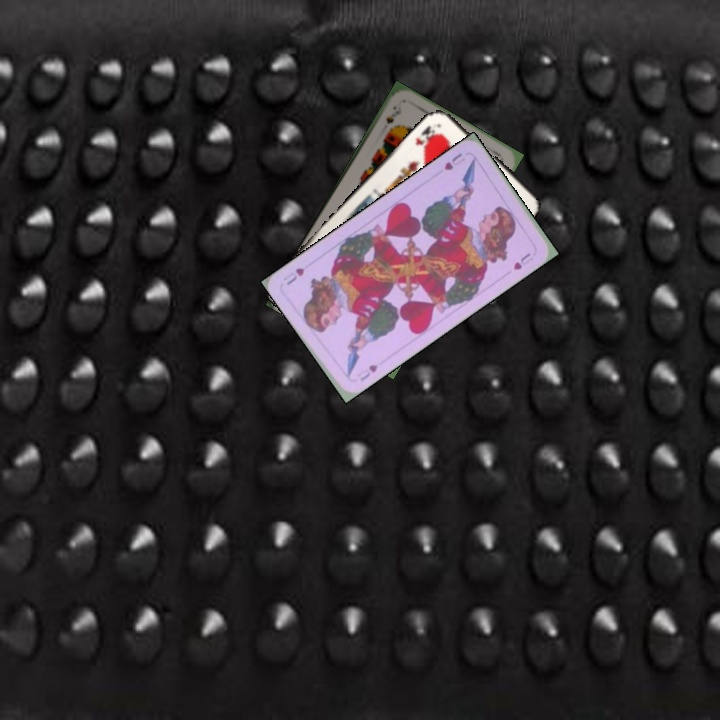HK: (411, 121, 440, 150)
HU: (440, 149, 468, 173), (356, 360, 380, 384)
S9: (382, 101, 404, 127)
